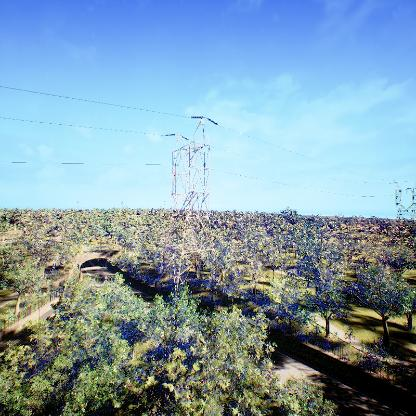tower: (159, 111, 229, 298)
